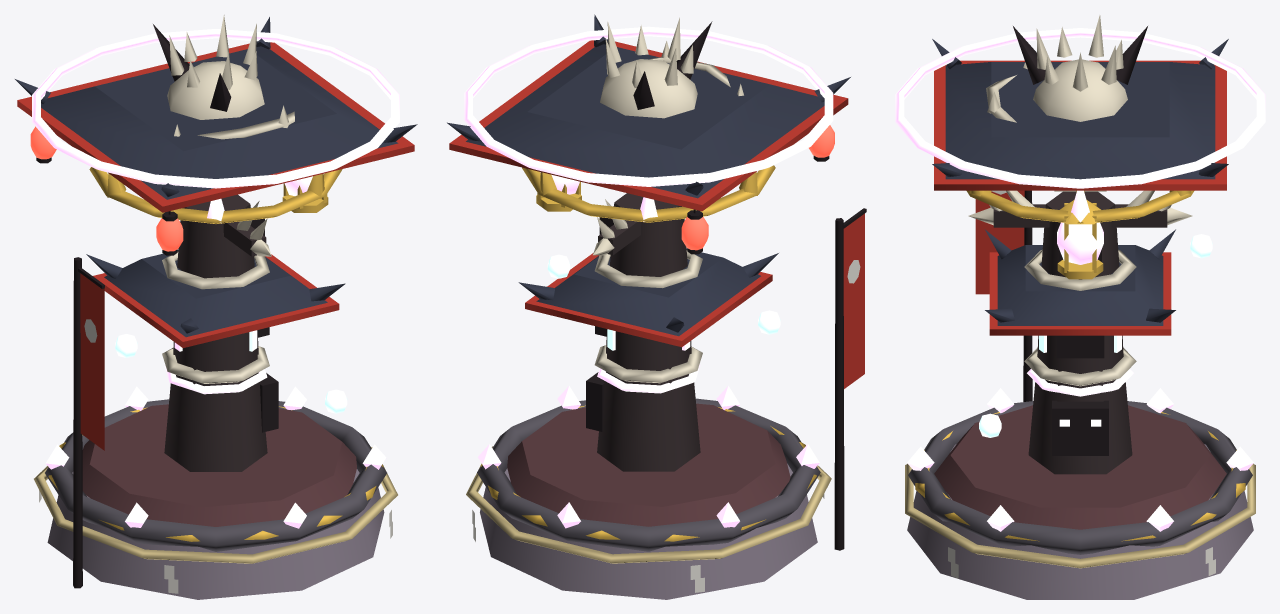
Rendered from tower_necromancer_soulLord_ultimate.glb.
3 views of the same model, side by side, from view 1: azimuth 30°, elevation 25°; view 2: azimuth 150°, elevation 25°; view 3: azimuth 270°, elevation 25° (orthographic).
Parts seen in each view (by area): view 1: deco_eave_0_roof, grave_soil, base, base_rim, deco_eave_1_roof, ult_halo, pole_0, deco_eave_0_rim, deco_shimenawa_rope, deco_nobori_cloth, pole_2, skull_cranium (+15 smaller); view 2: deco_eave_0_roof, grave_soil, base, base_rim, deco_eave_1_roof, ult_halo, pole_0, deco_eave_0_rim, deco_shimenawa_rope, pole_2, skull_cranium, deco_eave_1_rim (+13 smaller); view 3: deco_eave_0_roof, grave_soil, base, base_rim, deco_eave_1_roof, ult_halo, deco_eave_0_rim, pole_0, deco_shimenawa_rope, skull_cranium, deco_eave_1_rim, pole_face_0 (+18 smaller).
Part boxes in pixels (x1=…): deco_eave_0_roof: x1=41, y1=46, x2=398, y2=199; grave_soil: x1=82, y1=404, x2=356, y2=526; base: x1=47, y1=469, x2=384, y2=599; base_rim: x1=45, y1=399, x2=386, y2=551; deco_eave_1_roof: x1=104, y1=250, x2=327, y2=337; ult_halo: x1=32, y1=29, x2=399, y2=188; pole_0: x1=164, y1=372, x2=267, y2=471; deco_eave_0_rim: x1=17, y1=42, x2=414, y2=212; deco_shimenawa_rope: x1=34, y1=447, x2=397, y2=563; deco_nobori_cloth: x1=80, y1=273, x2=104, y2=450; pole_2: x1=177, y1=194, x2=254, y2=278; skull_cranium: x1=167, y1=61, x2=264, y2=119; deco_eave_0_roof: x1=466, y1=44, x2=824, y2=198; grave_soil: x1=507, y1=403, x2=790, y2=526; base: x1=480, y1=463, x2=817, y2=599; base_rim: x1=477, y1=398, x2=820, y2=551; deco_eave_1_roof: x1=536, y1=249, x2=760, y2=336; ult_halo: x1=464, y1=26, x2=833, y2=186; pole_0: x1=597, y1=371, x2=700, y2=471; deco_eave_0_rim: x1=449, y1=40, x2=848, y2=211; deco_shimenawa_rope: x1=466, y1=446, x2=831, y2=563; pole_2: x1=610, y1=193, x2=687, y2=276; skull_cranium: x1=600, y1=59, x2=697, y2=118; deco_eave_1_rim: x1=525, y1=253, x2=772, y2=347; deco_eave_0_roof: x1=945, y1=62, x2=1215, y2=179; grave_soil: x1=934, y1=405, x2=1226, y2=529; base: x1=907, y1=444, x2=1253, y2=599; base_rim: x1=908, y1=401, x2=1252, y2=554; deco_eave_1_roof: x1=997, y1=245, x2=1163, y2=325; ult_halo: x1=895, y1=28, x2=1265, y2=188; deco_eave_0_rim: x1=934, y1=60, x2=1226, y2=190; pole_0: x1=1028, y1=379, x2=1132, y2=474; deco_shimenawa_rope: x1=905, y1=463, x2=1255, y2=568; skull_cranium: x1=1033, y1=59, x2=1127, y2=121; deco_eave_1_rim: x1=989, y1=252, x2=1171, y2=335; pole_face_0: x1=1052, y1=400, x2=1108, y2=455.
Bounding box in the file's own units: 0.4427 × 0.634 × 0.4274.
